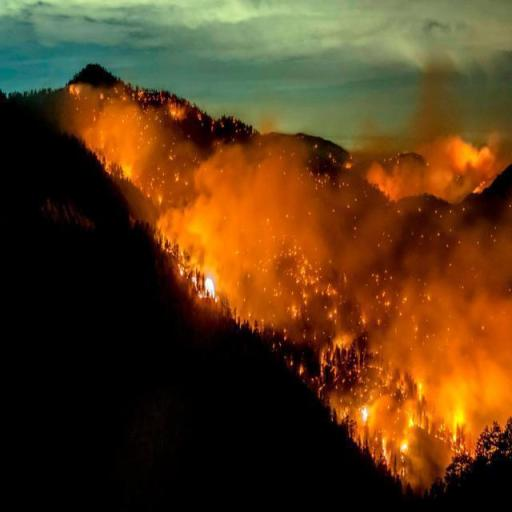smoke: (157, 130, 362, 268), (378, 158, 510, 339), (70, 82, 247, 216), (329, 352, 470, 472), (250, 275, 370, 342), (184, 270, 237, 320)
